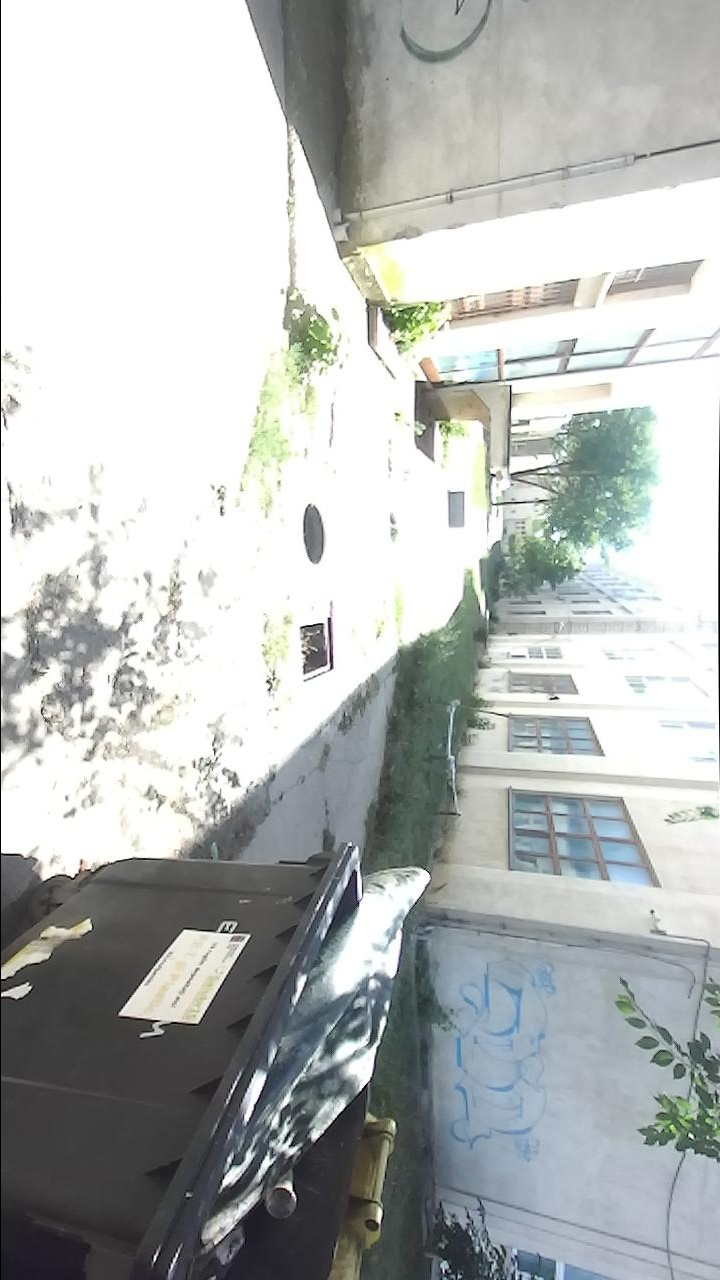drain: (298, 616, 336, 684), (298, 500, 332, 565)
